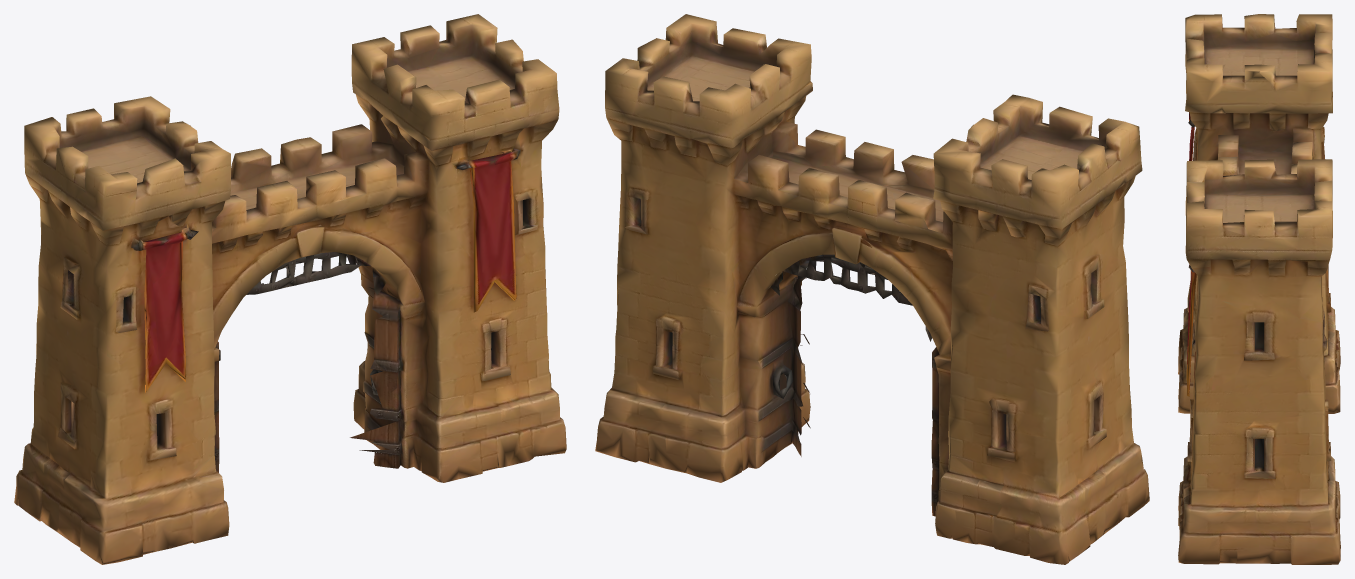
Rendered from fortress-gate.glb.
3 renders of one model, left to right at view 1: azimuth 30°, elevation 25°; view 2: azimuth 150°, elevation 25°; view 3: azimuth 270°, elevation 25°, orthographic. The views are drawn at different scales.
Visible parts, largest first — view 1: fortress-gate; view 2: fortress-gate; view 3: fortress-gate.
Part boxes in pixels (x1=…): fortress-gate: x1=14, y1=14, x2=566, y2=564; fortress-gate: x1=595, y1=14, x2=1149, y2=564; fortress-gate: x1=1178, y1=14, x2=1340, y2=564.
Size of the model in its own units: 18.01 by 14 by 5.92.
1 material, 1 textured.
